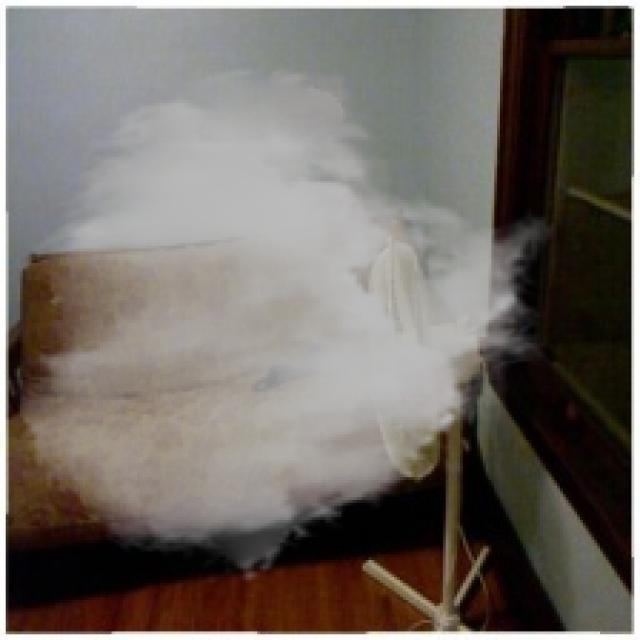Smoke: (14, 63, 557, 583)
